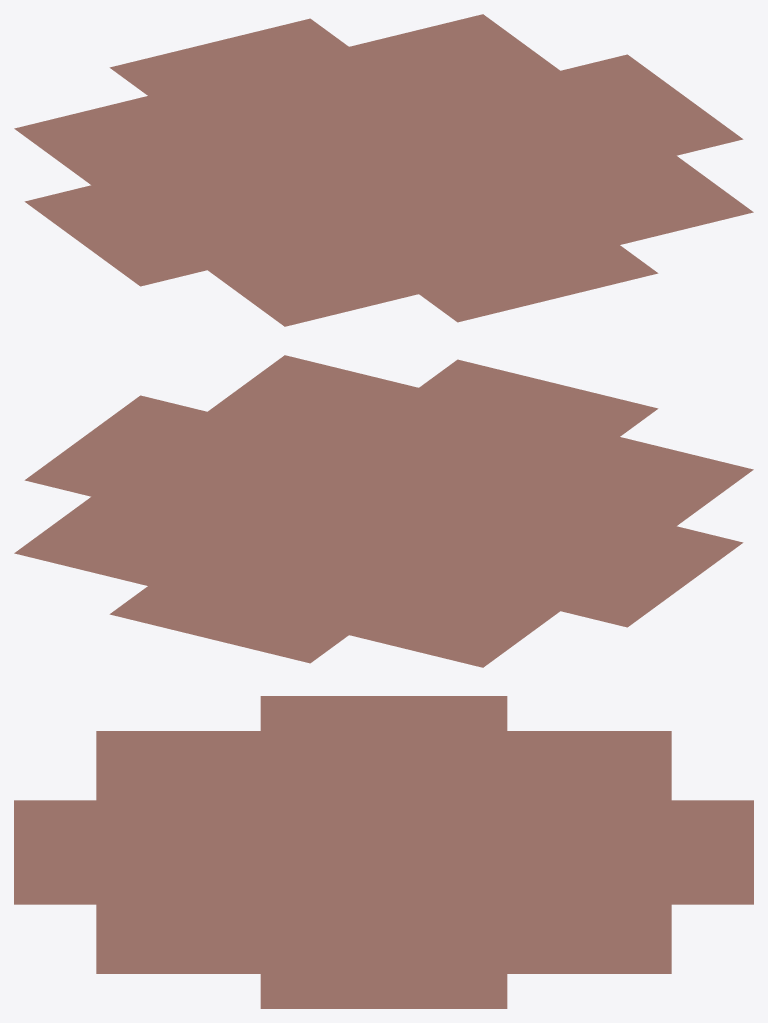
File: Sphere_Liquid.fbx
3 views of the same model, one above another, from view 1: azimuth 30°, elevation 25°; view 2: azimuth 150°, elevation 25°; view 3: azimuth 270°, elevation 25° (orthographic). The views are drawn at different scales.
Parts seen in each view (by area): view 1: Sphere_Liquid; view 2: Sphere_Liquid; view 3: Sphere_Liquid.
Boxes of the visible parts, <box> form: Sphere_Liquid: <box>14,14,753,326</box>; Sphere_Liquid: <box>14,355,753,667</box>; Sphere_Liquid: <box>14,696,753,1008</box>.
Size of the model in its own units: 909 by 0.000148 by 909.
